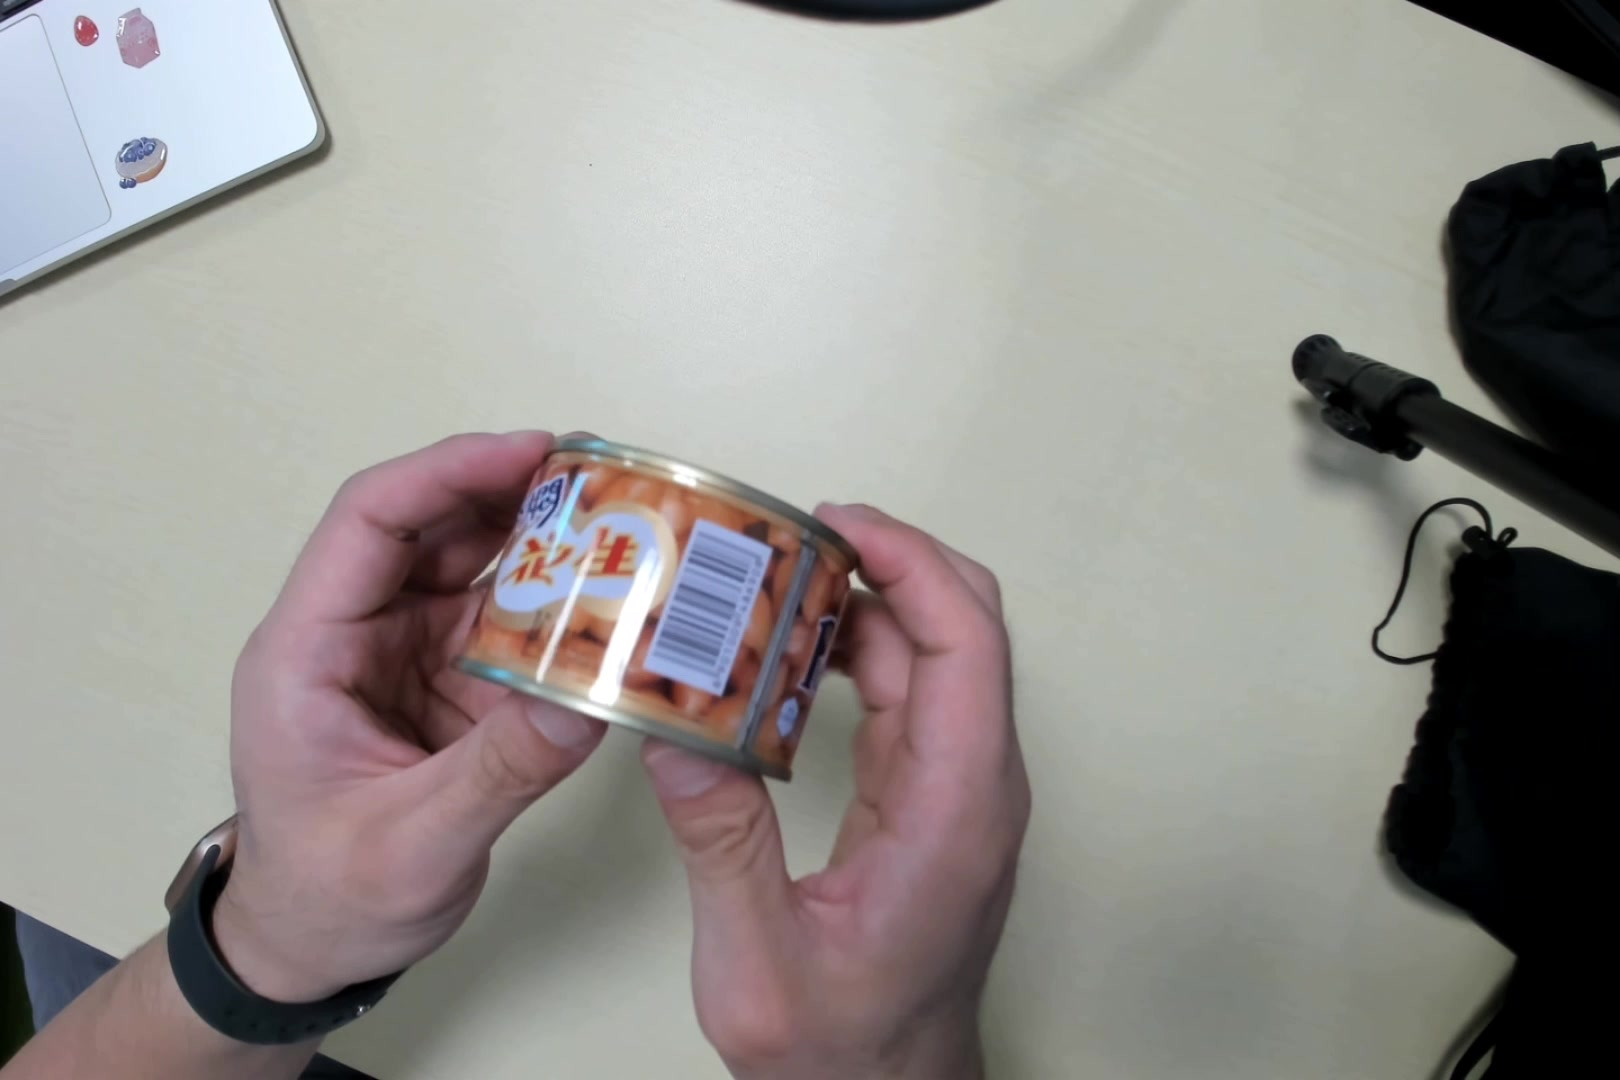CannedBraisedPeanuts_100-199g_NonHalal_NonHealthy: (469, 440, 853, 768)
